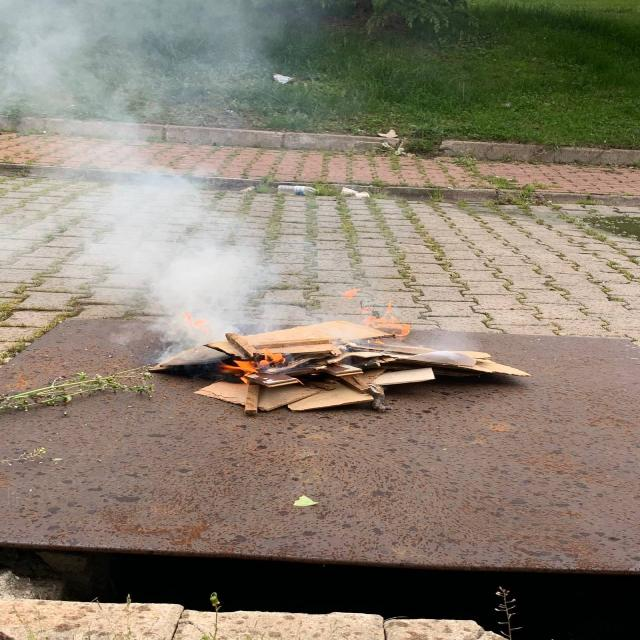fire: (164, 308, 288, 397), (337, 272, 411, 355)
